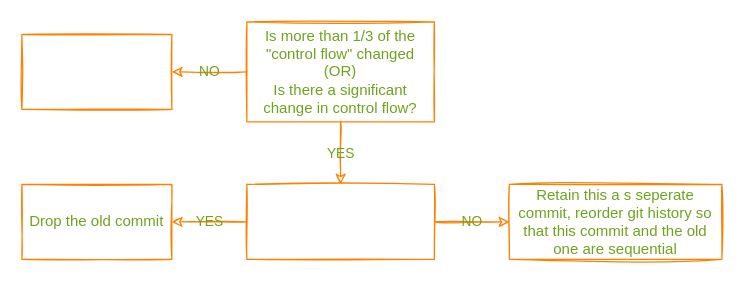
This 744x281 diagram has some shape labels left out. The shapes that lost their labels are listed below. From the top down, each one's centre as x and y in pixels, then its label:
(x=96, y=71): Squash this commit into the previous related commit
(x=340, y=221): Is it "over-writing" the logic of a previous commit?
